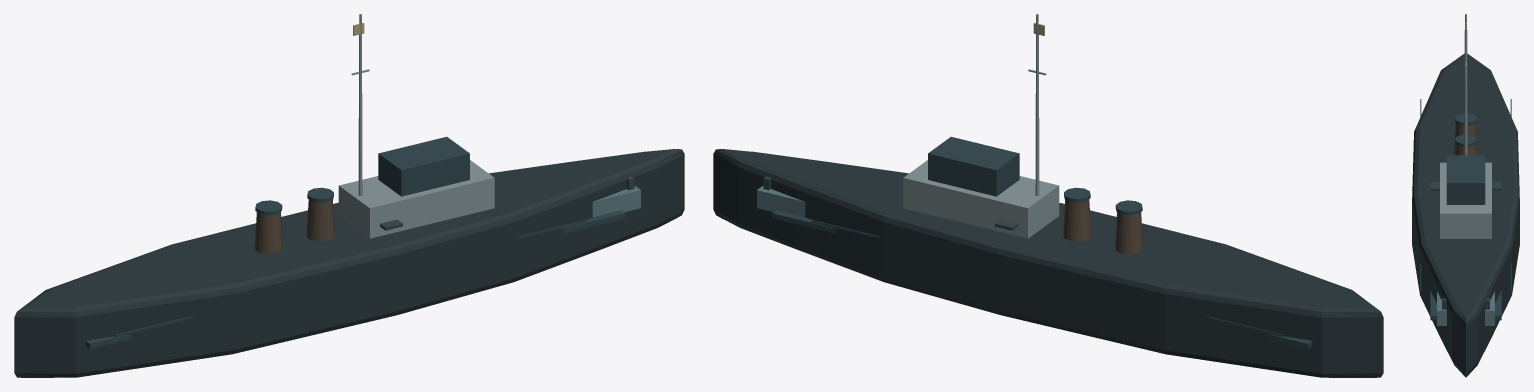
Rendered from cruiser.glb.
The picture shows the model from 3 angles, left to right: view 1: azimuth 30°, elevation 25°; view 2: azimuth 150°, elevation 25°; view 3: azimuth 270°, elevation 25°; orthographic projection. The views are drawn at different scales.
Visible parts, largest first — view 1: hull, bridge, bridge_wheelhouse, funnel (×2), forecastle, deck, mast; view 2: hull, bridge, bridge_wheelhouse, funnel (×2), forecastle, deck, mast; view 3: hull, bridge, bridge_wheelhouse, mast, funnel (×2), forecastle, funnel_cap (×2), deck, breakwater.
Boxes of the visible parts, <box> form: hull: <box>14,149,684,377</box>; bridge: <box>338,160,494,238</box>; bridge_wheelhouse: <box>378,136,469,196</box>; funnel (×2): <box>254,199,334,254</box>; forecastle: <box>592,186,640,216</box>; deck: <box>85,210,625,348</box>; mast: <box>358,14,362,195</box>; hull: <box>713,149,1383,377</box>; bridge: <box>903,160,1059,238</box>; bridge_wheelhouse: <box>928,136,1019,196</box>; funnel (×2): <box>1063,199,1143,254</box>; forecastle: <box>757,186,805,216</box>; deck: <box>772,210,1312,348</box>; mast: <box>1035,14,1039,195</box>; hull: <box>1412,53,1519,377</box>; bridge: <box>1440,162,1491,238</box>; bridge_wheelhouse: <box>1446,155,1485,204</box>; mast: <box>1464,14,1467,155</box>; funnel (×2): <box>1454,123,1477,155</box>; forecastle: <box>1437,291,1494,325</box>; funnel_cap (×2): <box>1454,113,1477,146</box>; deck: <box>1430,290,1501,320</box>; breakwater: <box>1442,298,1489,309</box>.
Bounding box in the file's own units: 19.19 × 7.69 × 3.2.
